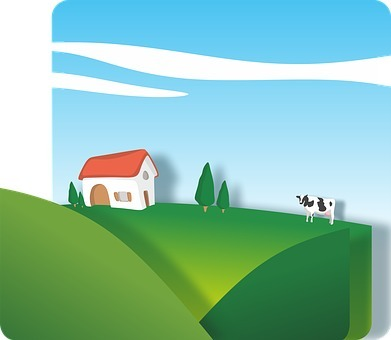cow: (292, 186, 339, 227)
